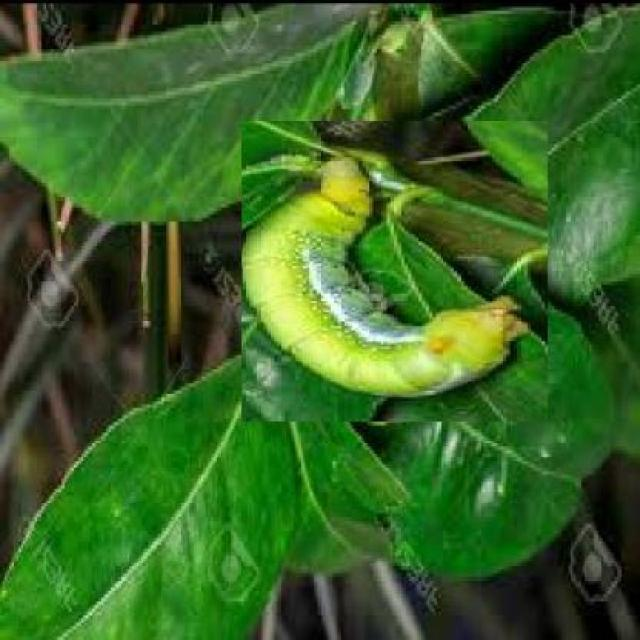Plaga: (241, 118, 547, 426)
